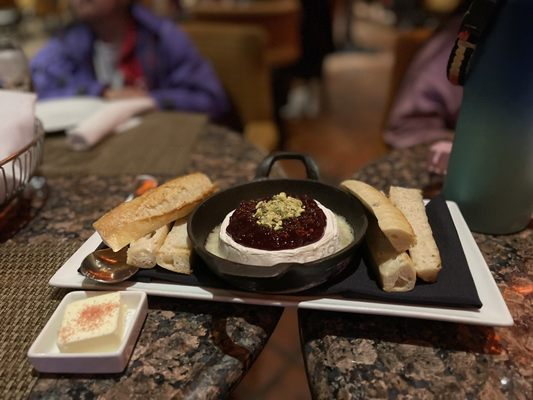soup: (81, 171, 218, 284)
sushi: (187, 177, 370, 295)
